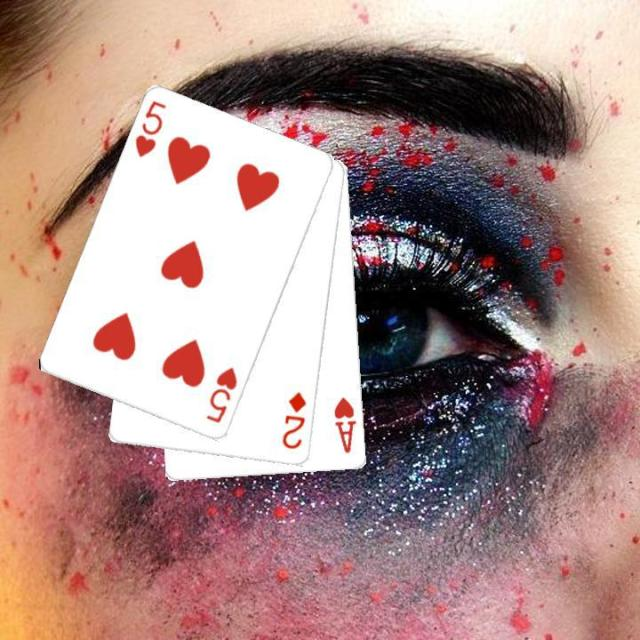2D: (279, 388, 309, 452)
5H: (202, 364, 240, 426), (131, 97, 168, 160)
AH: (331, 394, 358, 455)
